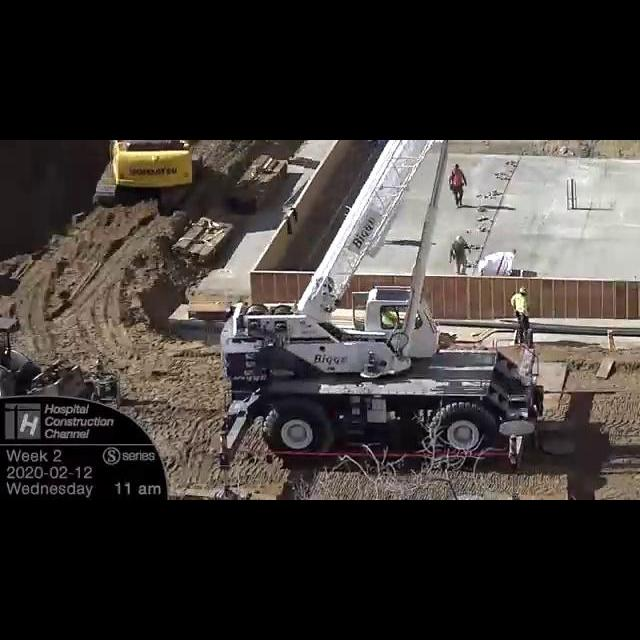Hardhat: (455, 235, 464, 244), (520, 286, 527, 293)
NO-Safety Vest: (454, 244, 465, 257)
Person: (511, 287, 531, 341), (448, 235, 471, 275), (448, 164, 467, 209), (382, 308, 400, 327)
Safety Vest: (514, 297, 526, 311), (452, 172, 463, 186), (383, 314, 395, 326)
machinery: (219, 140, 545, 471), (92, 140, 201, 216), (0, 315, 87, 399)
